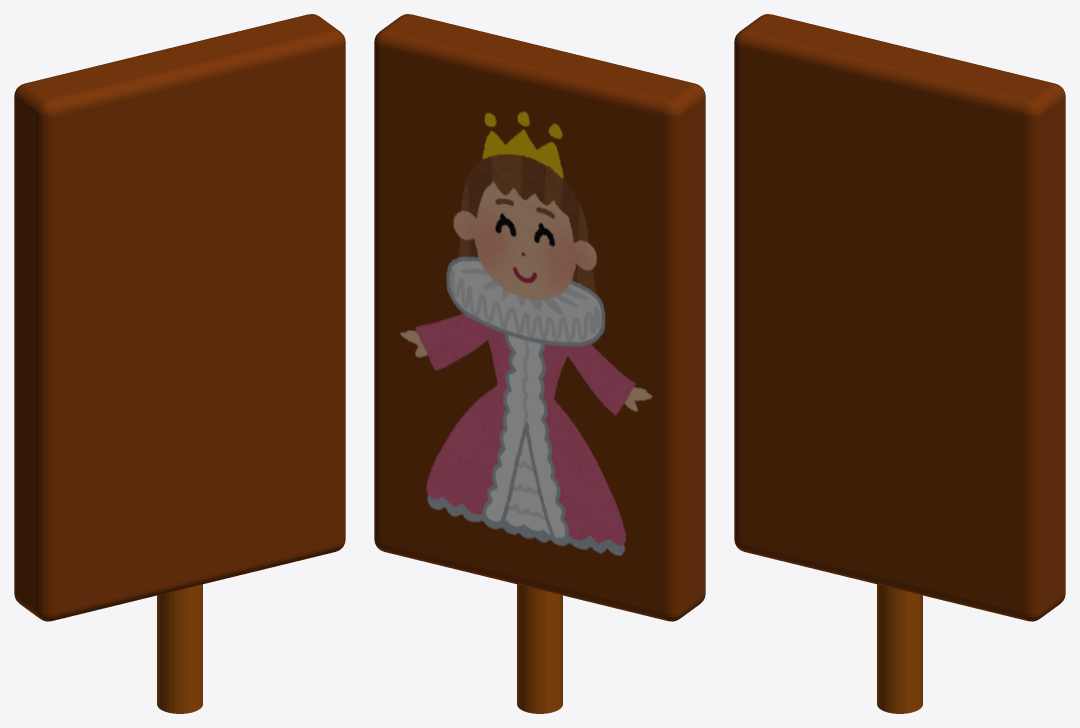
Rendered from queenTarget.fbx.
3 renders of one model, left to right at view 1: azimuth 30°, elevation 25°; view 2: azimuth 150°, elevation 25°; view 3: azimuth 330°, elevation 25°, orthographic.
Parts seen in each view (by area): view 1: Cube, Cylinder; view 2: Cube, Cylinder; view 3: Cube, Cylinder.
Part boxes in pixels (x1=…): Cube: x1=14, y1=14, x2=345, y2=621; Cylinder: x1=157, y1=584, x2=202, y2=713; Cube: x1=374, y1=14, x2=705, y2=621; Cylinder: x1=517, y1=584, x2=562, y2=713; Cube: x1=734, y1=14, x2=1065, y2=621; Cylinder: x1=877, y1=584, x2=922, y2=713.
Size of the model in its own units: 771 by 1551 by 147.
